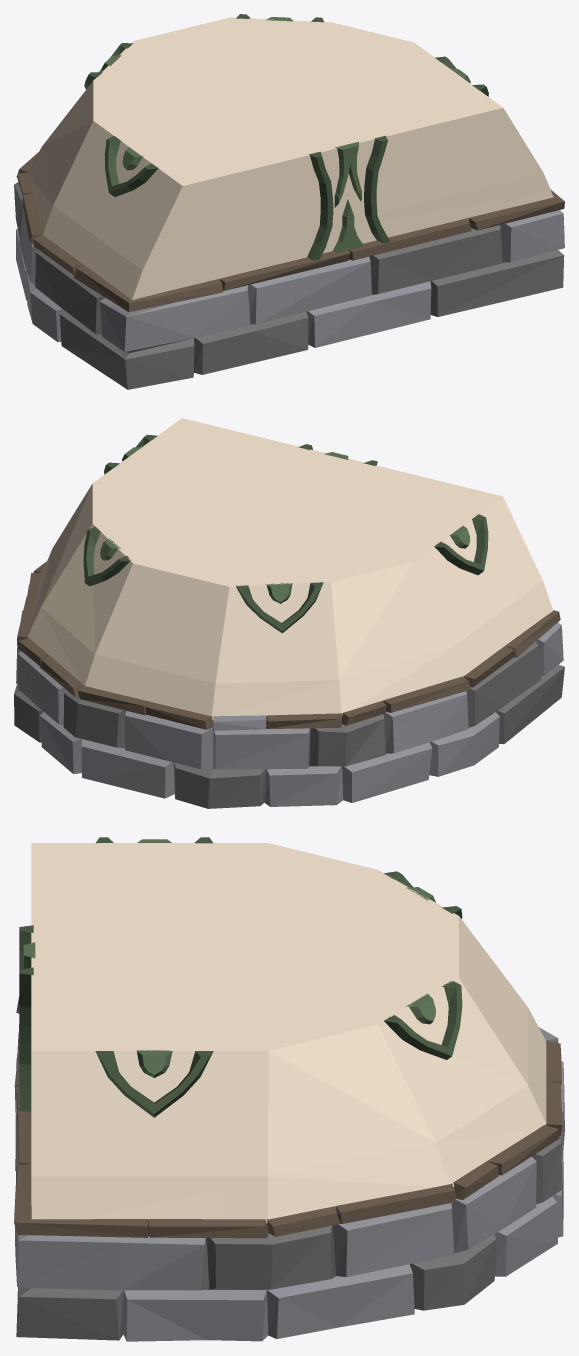
The model's file is _FPRTRESS_OSNOVA_01.fbx.
3 renders of one model, top to bottom at view 1: azimuth 30°, elevation 25°; view 2: azimuth 150°, elevation 25°; view 3: azimuth 270°, elevation 25°, orthographic. The views are drawn at different scales.
Parts seen in each view (by area): view 1: FPRTRESS_OSNOVA_01; view 2: FPRTRESS_OSNOVA_01; view 3: FPRTRESS_OSNOVA_01.
Part boxes in pixels (x1,y1,x2,y2): FPRTRESS_OSNOVA_01: [14, 14, 564, 389]; FPRTRESS_OSNOVA_01: [14, 418, 564, 808]; FPRTRESS_OSNOVA_01: [14, 837, 564, 1341].
Bounding box in the file's own units: 670 × 271 × 540.
